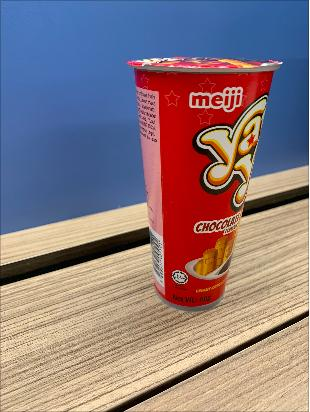object_name: (142, 66, 230, 310)
